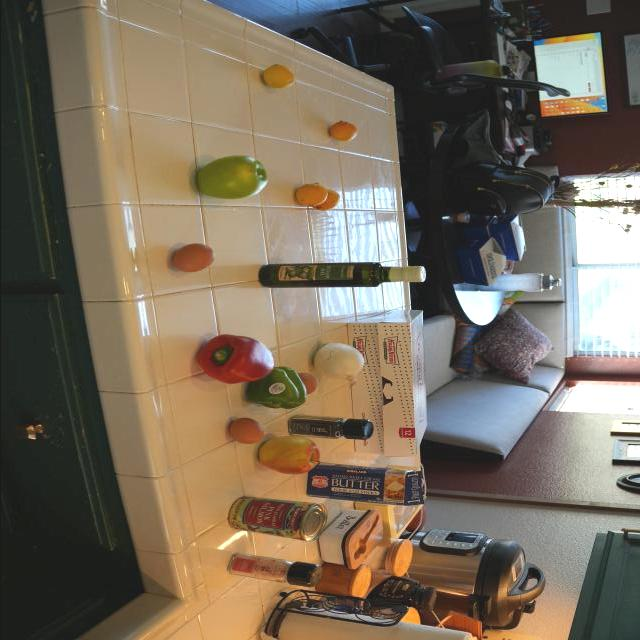bell_pepper: (198, 336, 272, 390), (285, 411, 379, 441), (244, 372, 305, 414)
egg: (165, 244, 215, 282), (224, 416, 264, 446), (291, 368, 316, 394)
onion: (314, 340, 366, 381)
